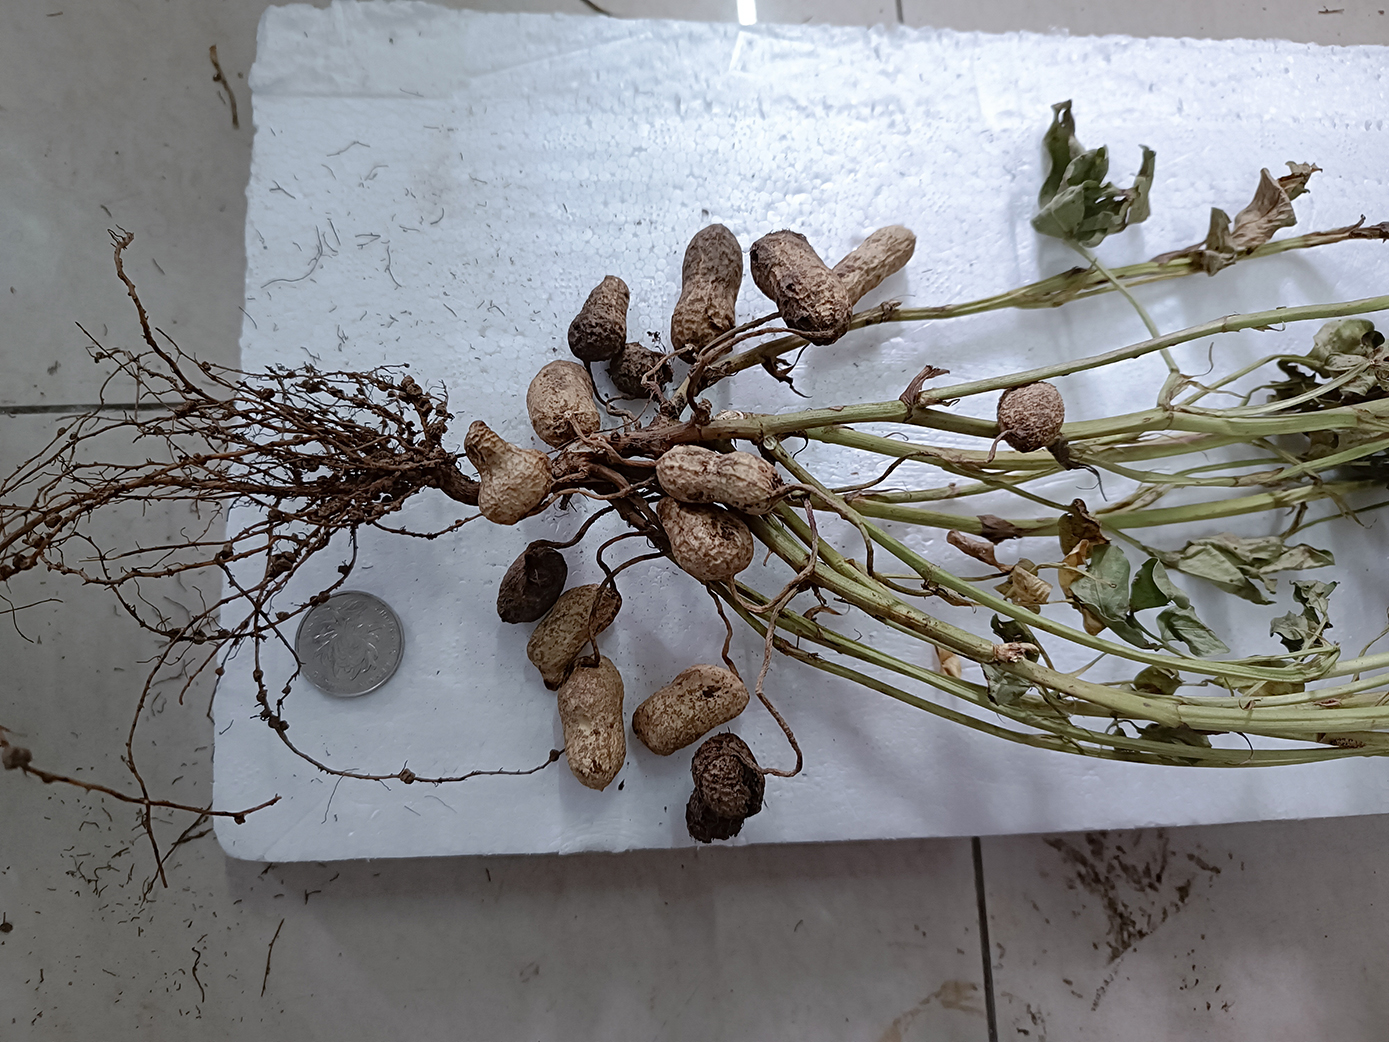h: (632, 661, 750, 751), (528, 582, 625, 685), (557, 655, 628, 794), (653, 443, 780, 514), (656, 491, 754, 582), (465, 415, 546, 522), (830, 225, 914, 305), (528, 359, 600, 441), (996, 381, 1065, 453)
l: (748, 230, 850, 339), (670, 223, 743, 367), (687, 734, 768, 846), (498, 547, 570, 627), (567, 273, 627, 357), (614, 339, 669, 397)
